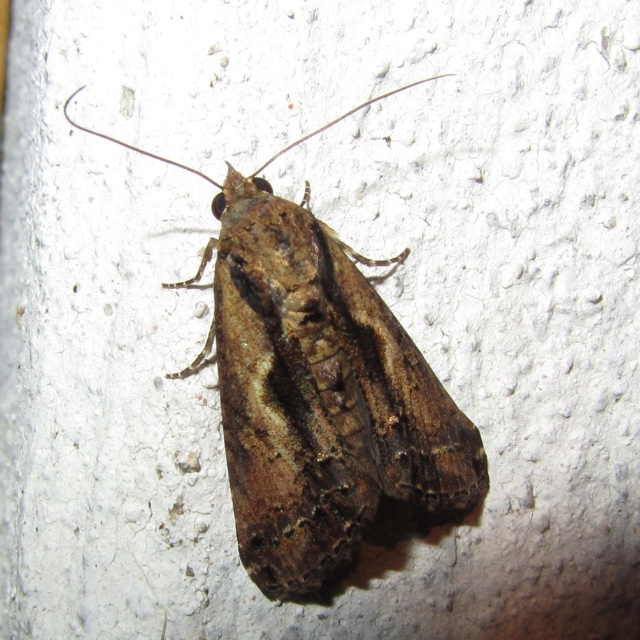Moths and butterflies: (61, 71, 493, 604)
